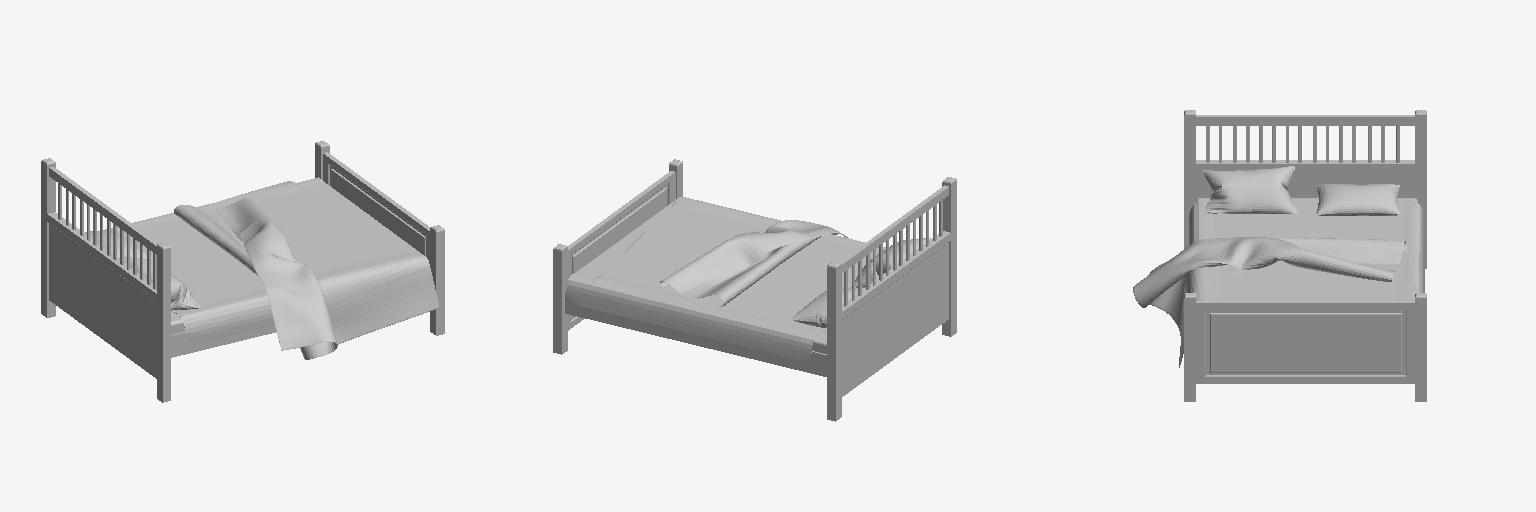
Rendered from bed.obj.
The picture shows the model from 3 angles: view 1: azimuth 30°, elevation 25°; view 2: azimuth 150°, elevation 25°; view 3: azimuth 270°, elevation 25°; orthographic projection.
Parts seen in each view (by area): view 1: Wood_Bed_Blanket, Wood_Bed, Wood_Bed_Sheet, Wood_Bed_Pillow_1 pCube323; view 2: Wood_Bed, Wood_Bed_Blanket, Wood_Bed_Sheet, pCube323 Wood_Bed_Pillow_2, Wood_Bed_Pillow_1 pCube323; view 3: Wood_Bed, Wood_Bed_Blanket, Wood_Bed_Sheet, Wood_Bed_Pillow_1 pCube323, pCube323 Wood_Bed_Pillow_2.
Boxes of the visible parts, <box> form: Wood_Bed_Blanket: <box>174,181,438,359</box>; Wood_Bed: <box>41,141,444,402</box>; Wood_Bed_Sheet: <box>105,177,428,350</box>; Wood_Bed_Pillow_1 pCube323: <box>119,257,202,309</box>; Wood_Bed: <box>553,159,956,421</box>; Wood_Bed_Blanket: <box>592,197,847,307</box>; Wood_Bed_Sheet: <box>566,197,885,362</box>; pCube323 Wood_Bed_Pillow_2: <box>790,287,857,327</box>; Wood_Bed_Pillow_1 pCube323: <box>851,238,930,287</box>; Wood_Bed: <box>1184,110,1426,401</box>; Wood_Bed_Blanket: <box>1133,237,1418,367</box>; Wood_Bed_Sheet: <box>1189,202,1424,292</box>; Wood_Bed_Pillow_1 pCube323: <box>1203,166,1297,213</box>; pCube323 Wood_Bed_Pillow_2: <box>1316,184,1400,215</box>.
Bounding box in the file's own units: 304 × 159 × 274.